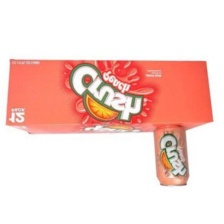can: (148, 121, 195, 191)
